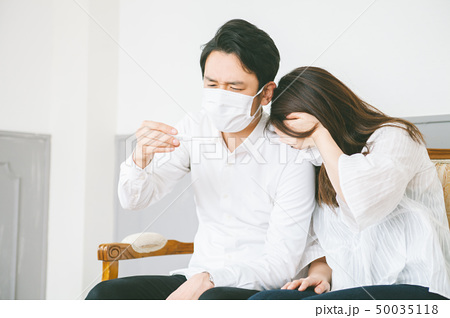mask: (193, 87, 259, 133)
